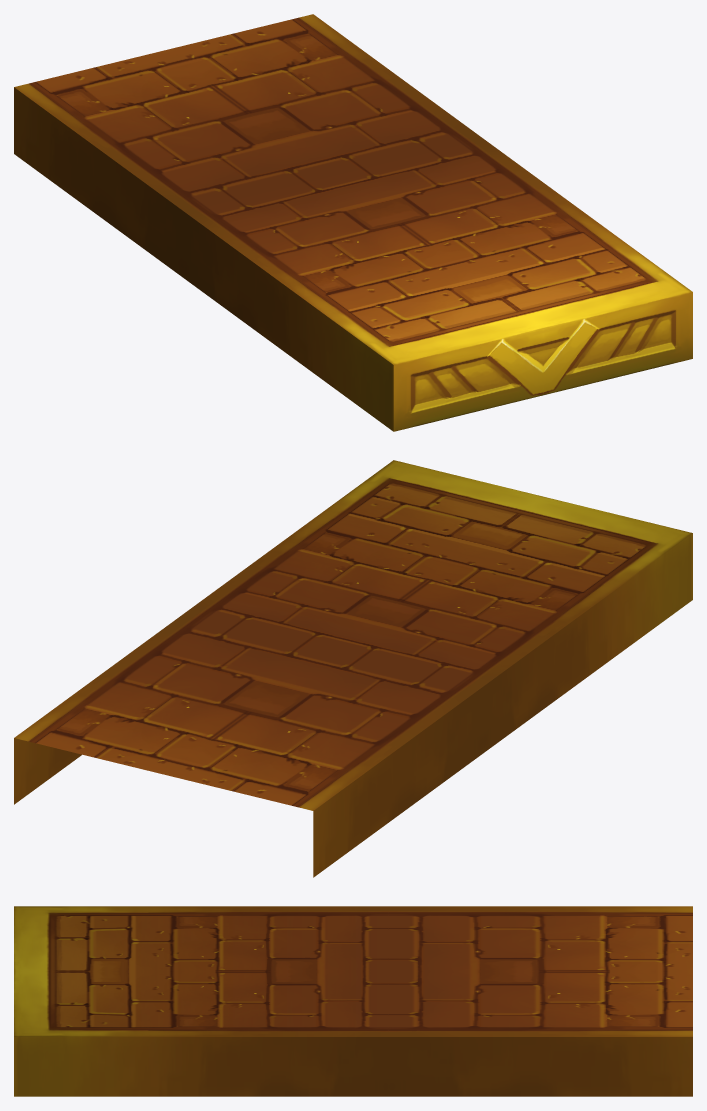
Rendered from xiaoxiong02_002.FBX.
3 views of the same model, one above another, from view 1: azimuth 30°, elevation 25°; view 2: azimuth 150°, elevation 25°; view 3: azimuth 270°, elevation 25° (orthographic). The views are drawn at different scales.
Parts seen in each view (by area): view 1: xiaoxiong02_002; view 2: xiaoxiong02_002; view 3: xiaoxiong02_002.
Boxes of the visible parts, x1=… form: xiaoxiong02_002: x1=14, y1=14, x2=692, y2=431; xiaoxiong02_002: x1=14, y1=460, x2=692, y2=877; xiaoxiong02_002: x1=14, y1=906, x2=692, y2=1096.
Size of the model in its own units: 2183 by 4798 by 466.
